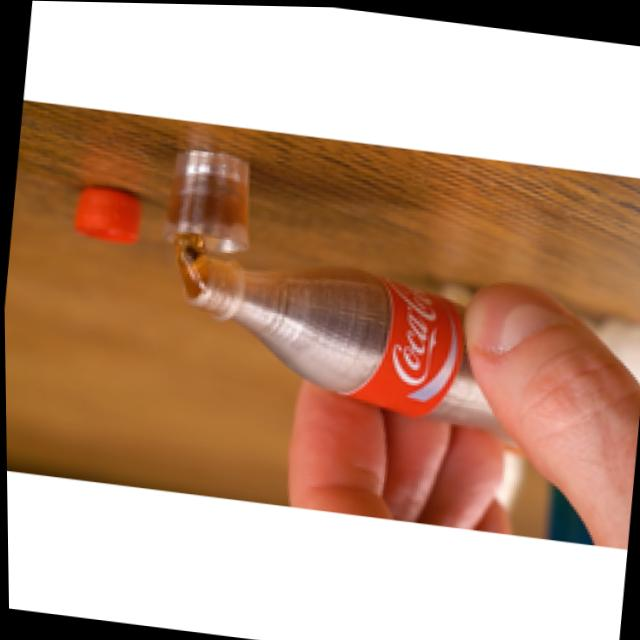plastic_soda_bottles: (165, 238, 524, 439)
